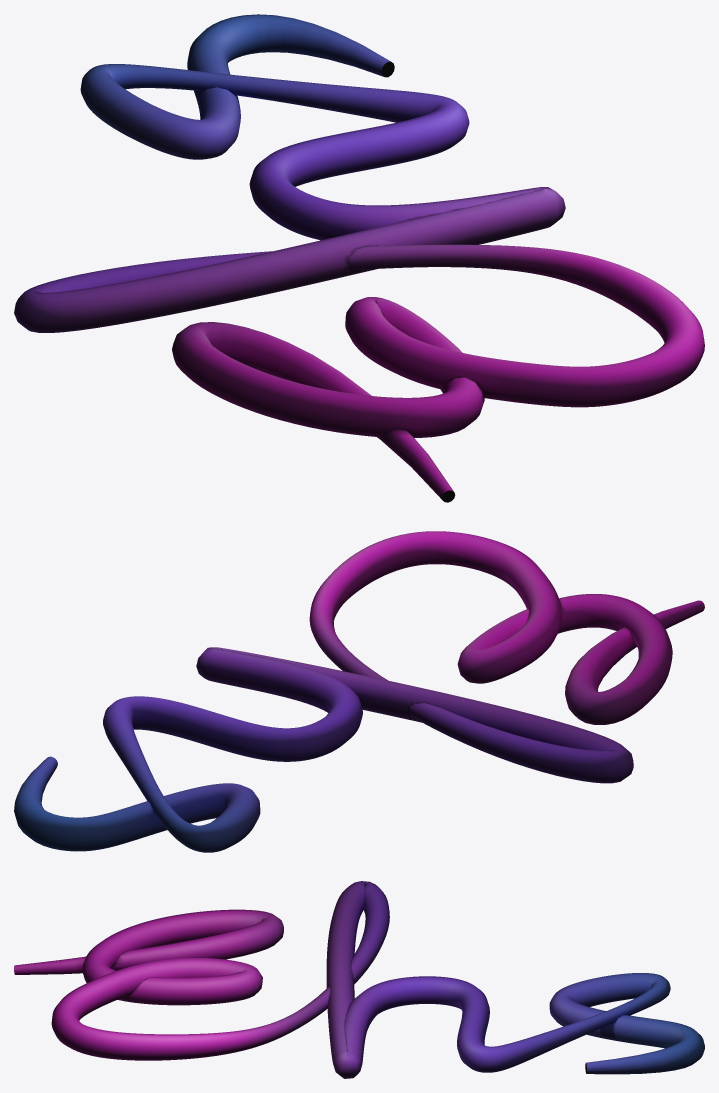
Rendered from Ehs.glb.
3 views of the same model, one above another, from view 1: azimuth 30°, elevation 25°; view 2: azimuth 150°, elevation 25°; view 3: azimuth 270°, elevation 25° (orthographic). The views are drawn at different scales.
Visible parts, largest first — view 1: NurbsPath; view 2: NurbsPath; view 3: NurbsPath.
Part boxes in pixels (x1=…): NurbsPath: x1=14, y1=14, x2=704, y2=502; NurbsPath: x1=14, y1=531, x2=704, y2=852; NurbsPath: x1=14, y1=881, x2=704, y2=1078.
Bounding box in the file's own units: 4.6 × 0.5112 × 7.49.
1 material, 1 textured.
